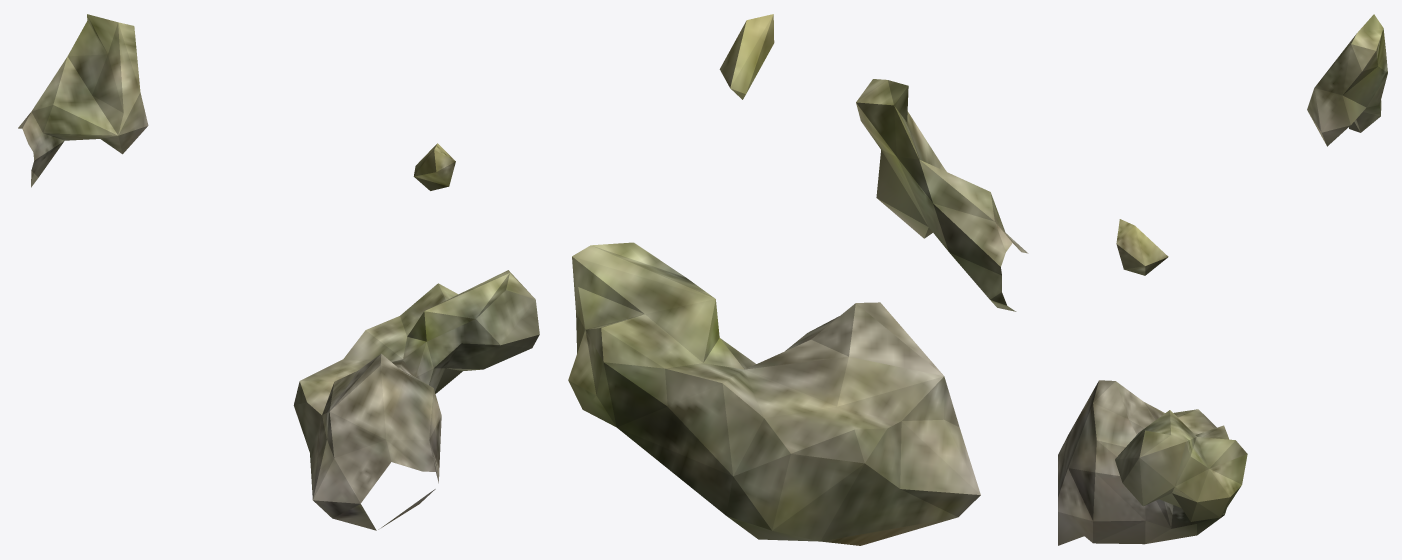
3 renders of one model, left to right at view 1: azimuth 30°, elevation 25°; view 2: azimuth 150°, elevation 25°; view 3: azimuth 270°, elevation 25°, orthographic. The views are drawn at different scales.
Bounding box in the file's own units: 2.7 × 2.91 × 1.92.
1 material, 1 textured.
